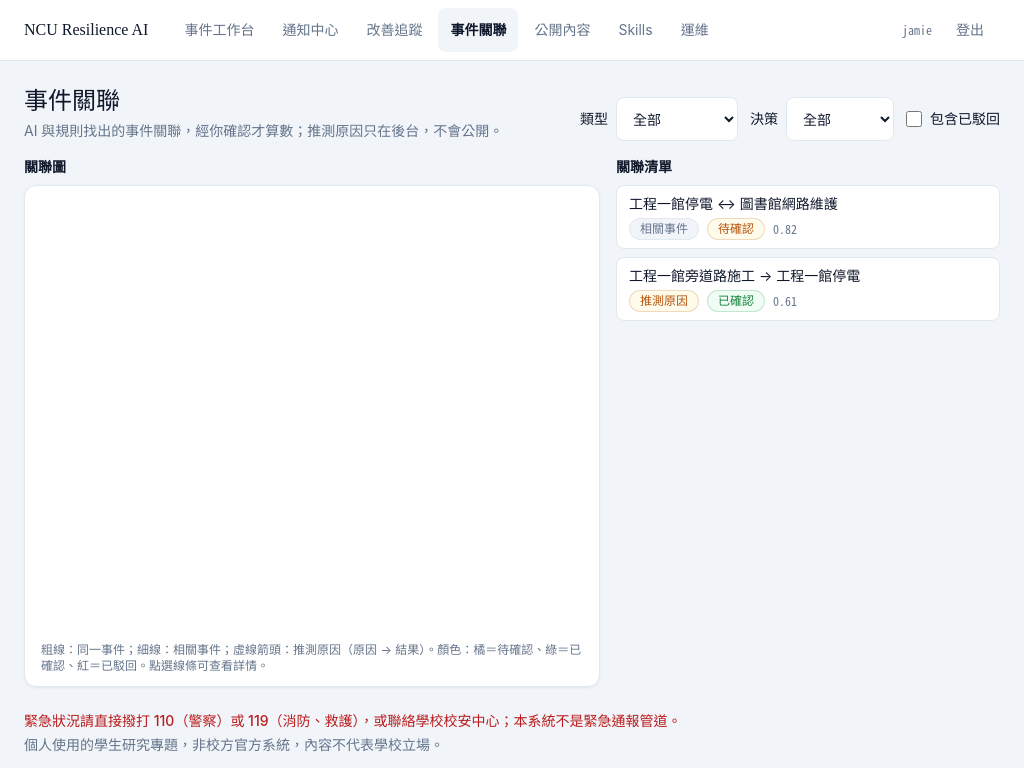
Scenario: RelationGraph › 伺服器拒絕時顯示訊息，狀態不變
Step 1. Click the button "工程一館停電 ↔ 圖書館網路維護 相關事件 待確認 0.82" → (733, 204), box [616, 185, 1000, 249]
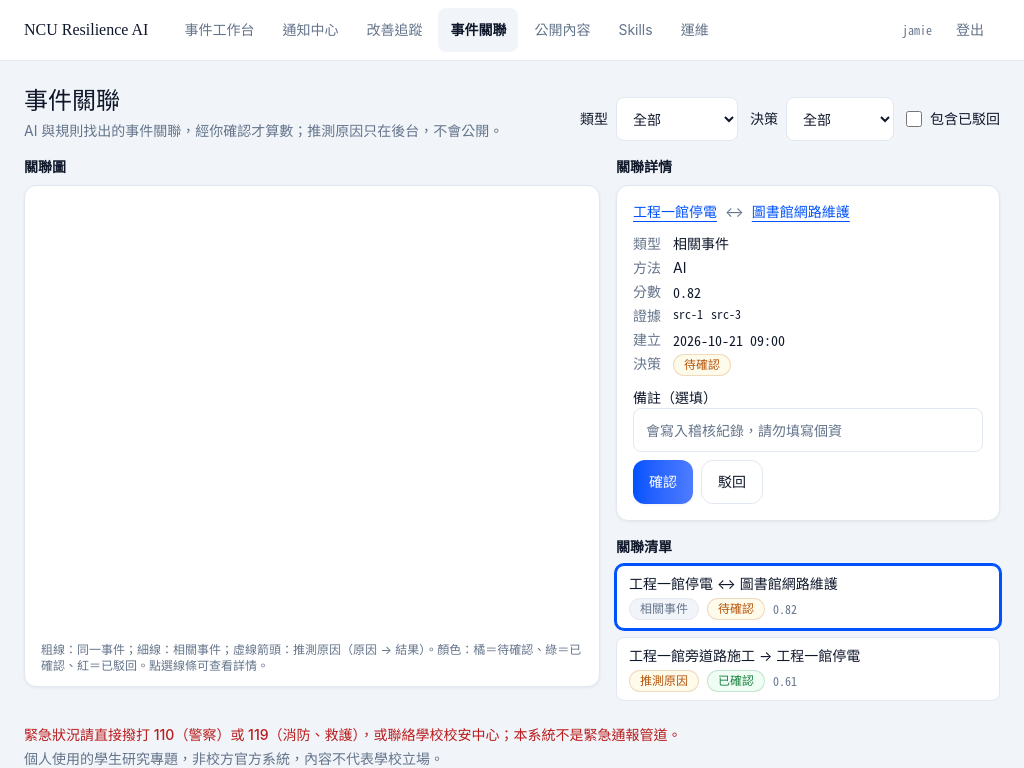
Step 2. Click the button "確認" → (663, 482), box [633, 460, 693, 504]
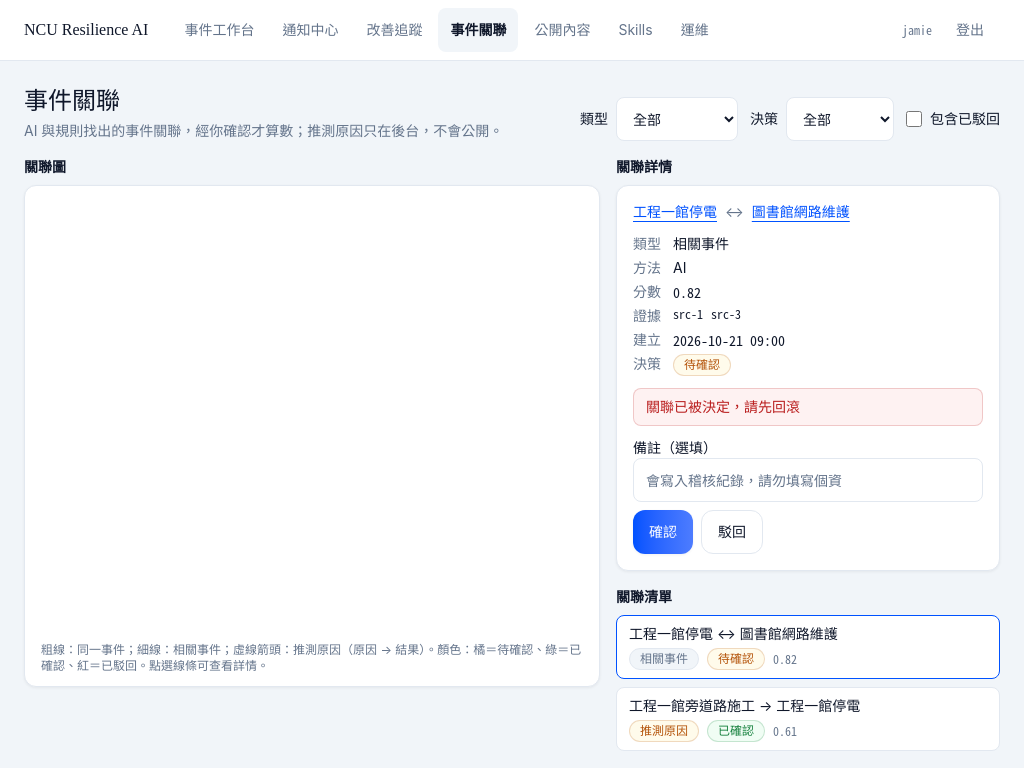
Check: the text "待確認" below "關聯清單" is shown, box [718, 651, 754, 666]
Check: the message reads "關聯已被決定，請先回滾", box [646, 398, 800, 415]
